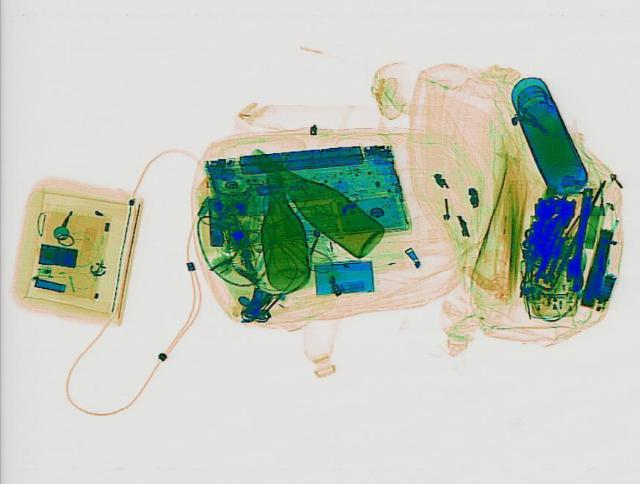Wrench: (562, 187, 596, 289), (530, 247, 554, 281)
